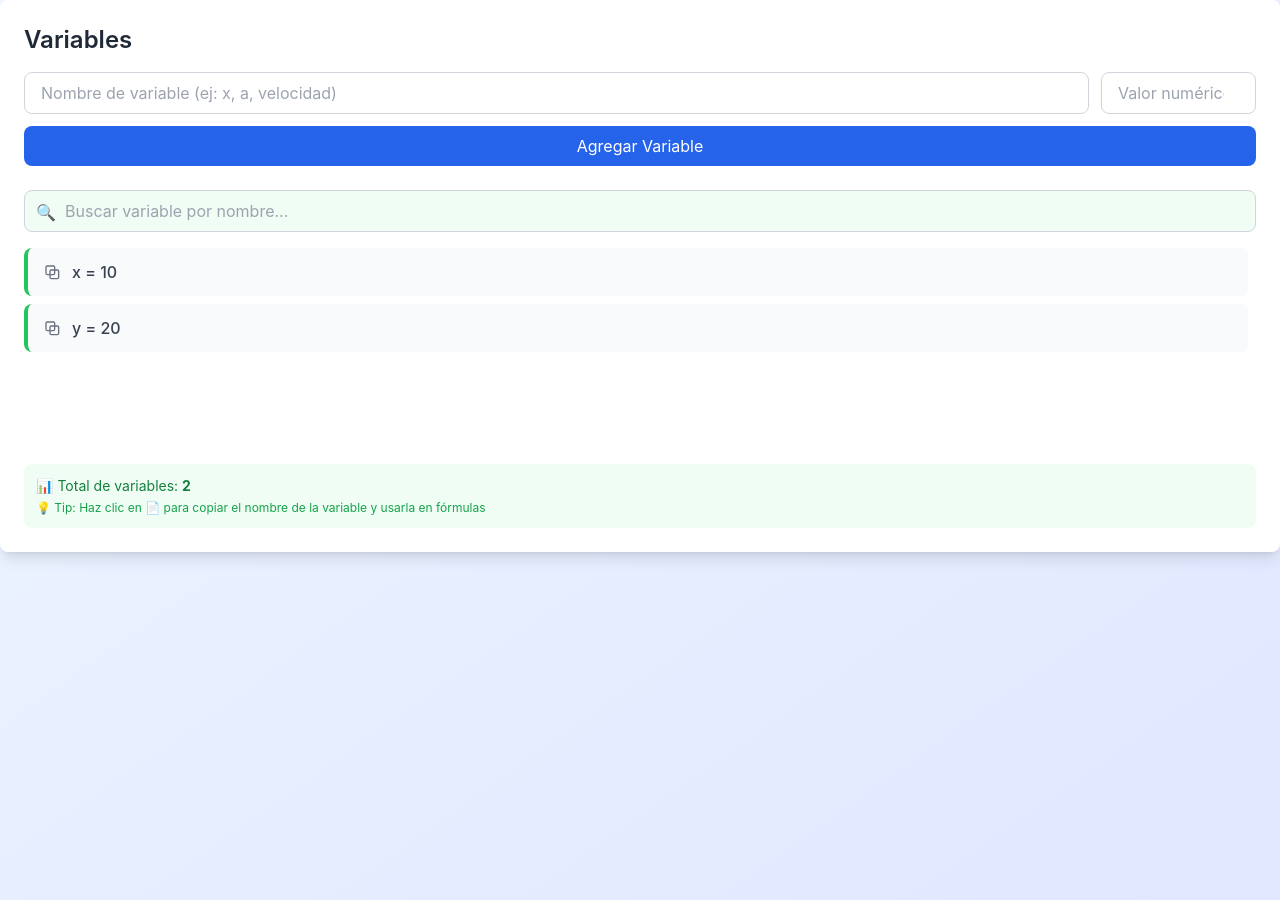
it: cancela el modo selección múltiple
Hover over the text "x = 10": (95, 272) [72,260,117,284]
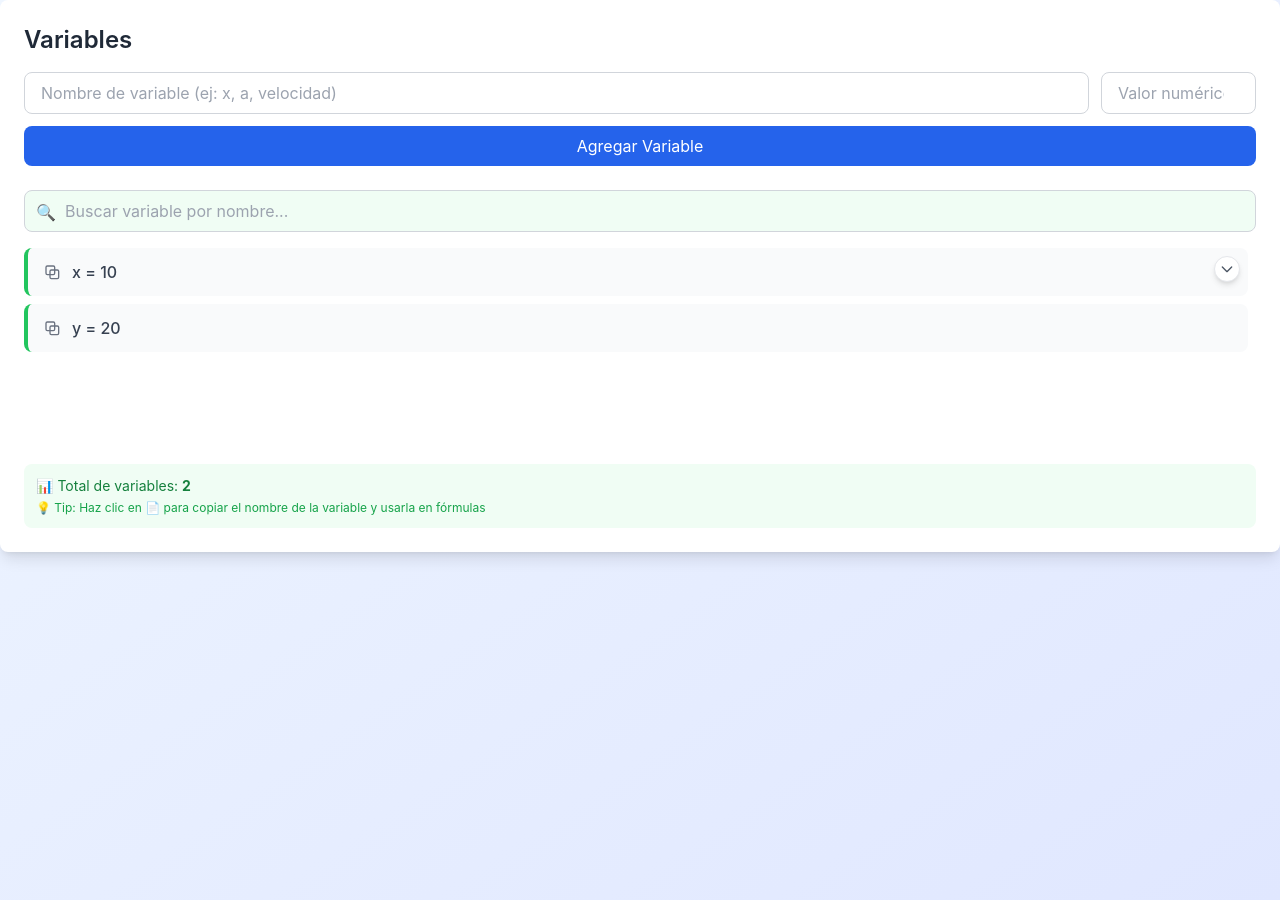
Click the button titled "Más opciones": (1227, 269) [1214,256,1240,282]
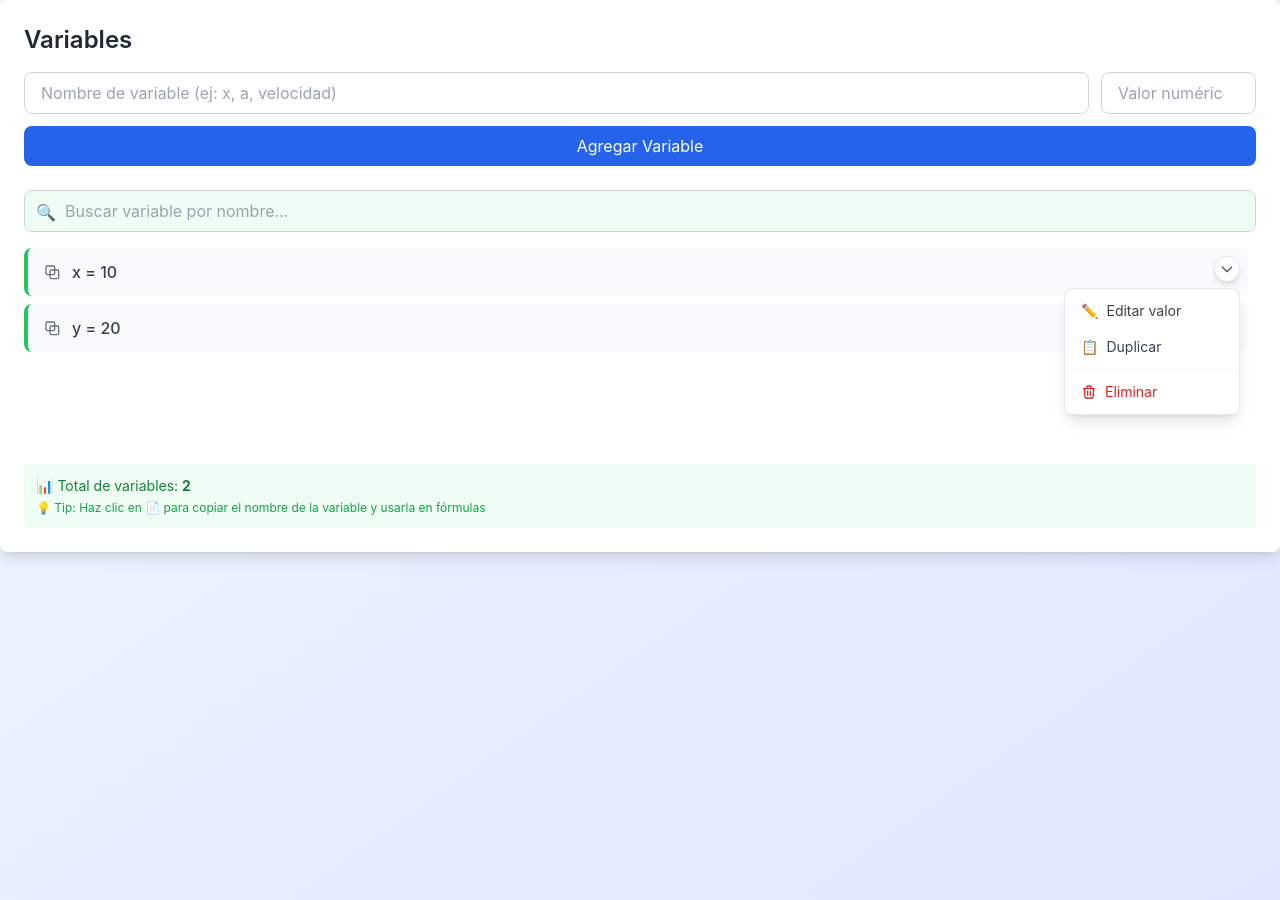
Click the button "Eliminar": (1152, 392) [1065,374,1239,410]
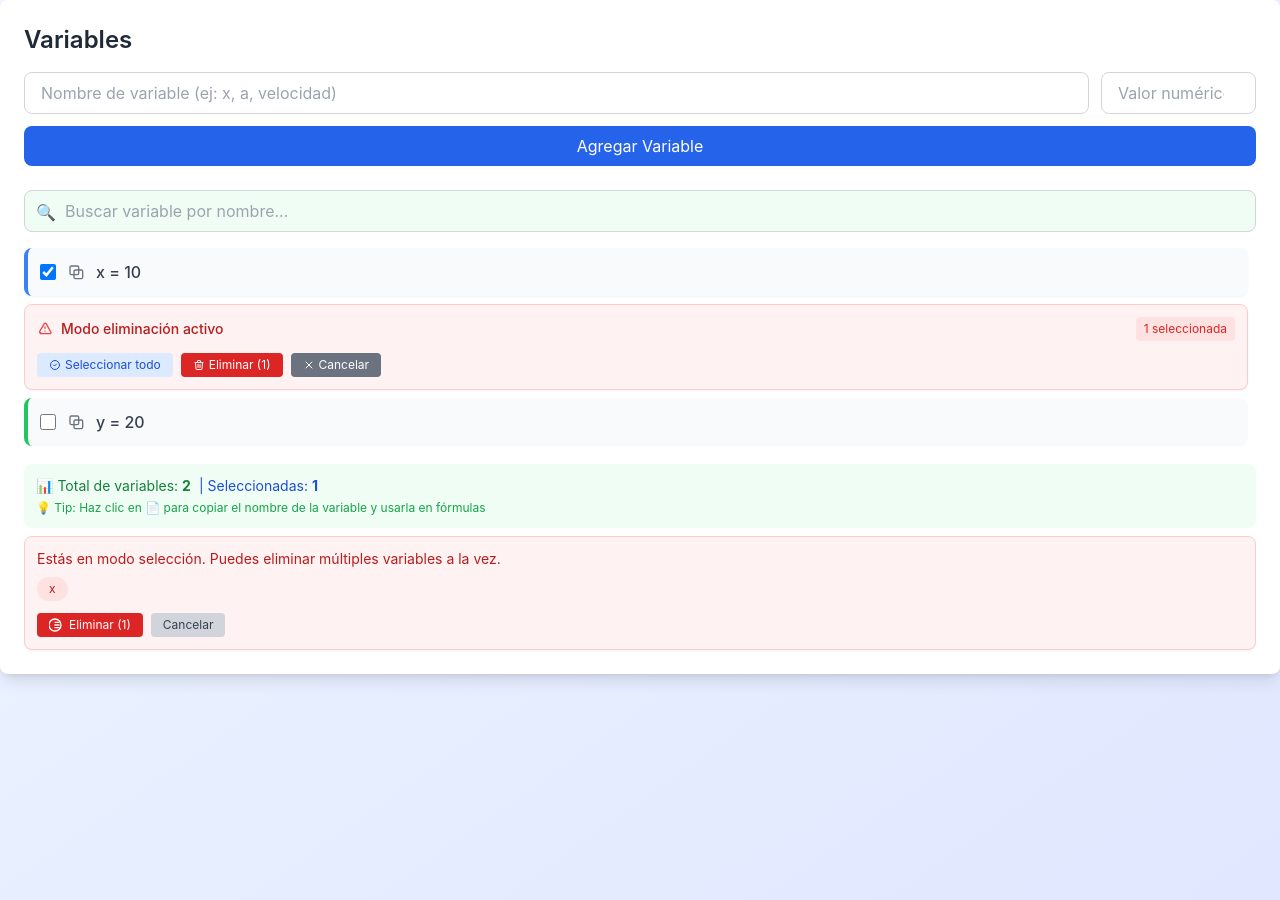
Note: Selecciona el botón correcto (el último suele ser el del panel de selección)
Click the 2nd button "Cancelar": (188, 625) [151,613,225,637]
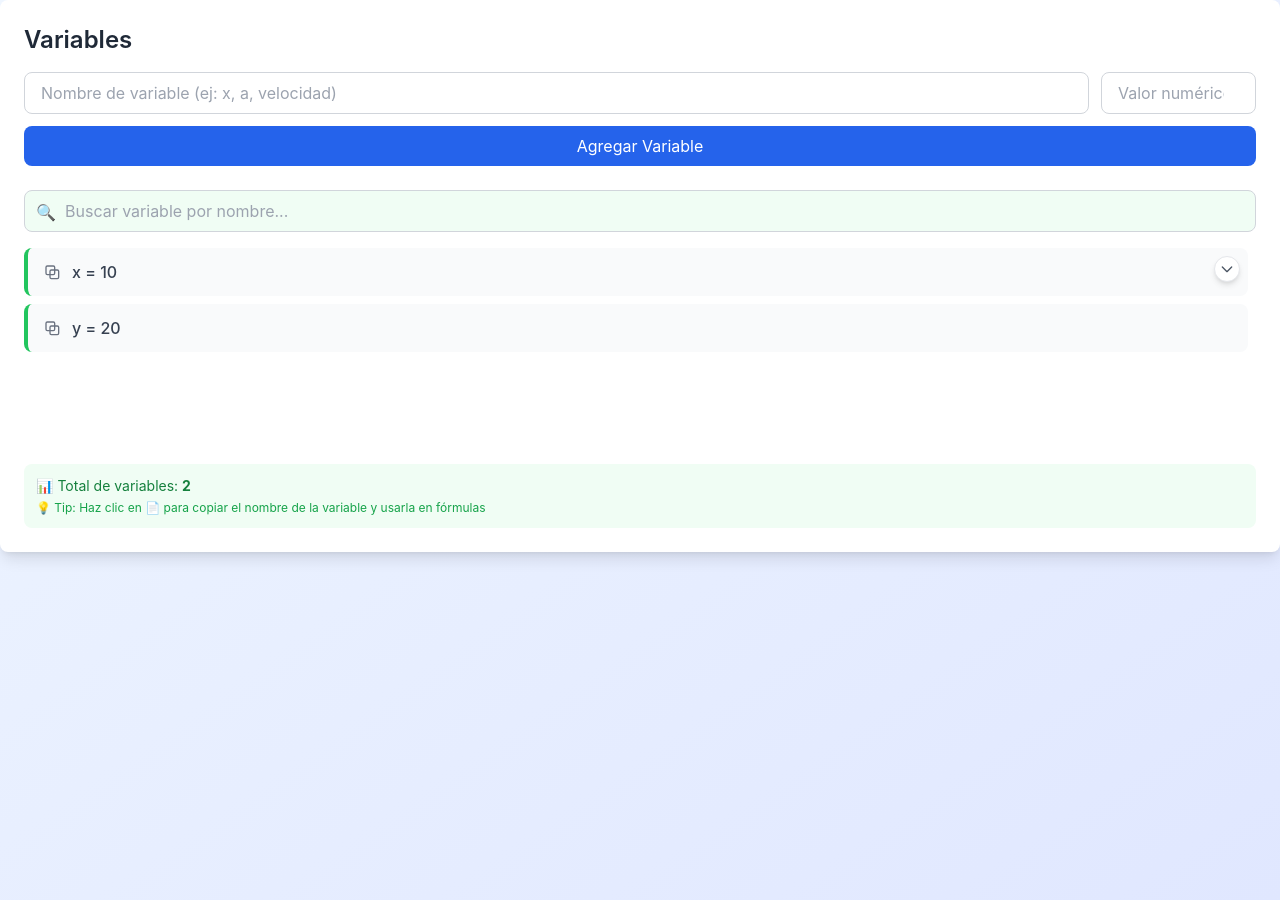
Check: the text "Modo eliminación activo" is gone
